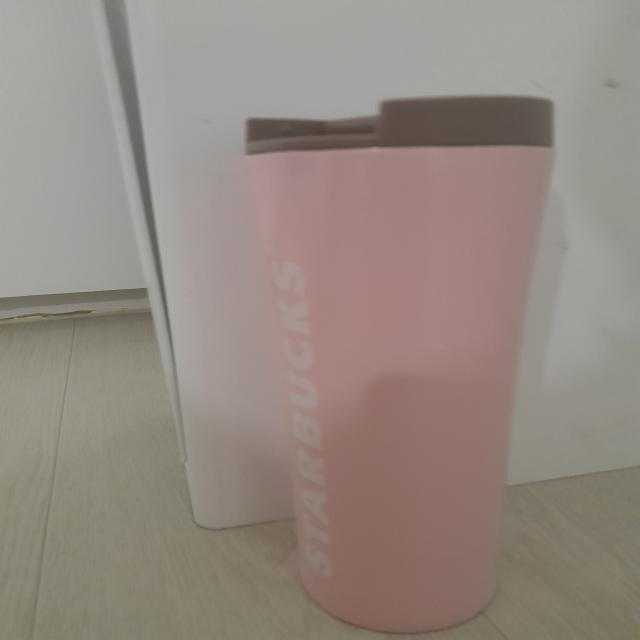waterbottle: (244, 94, 556, 632)
